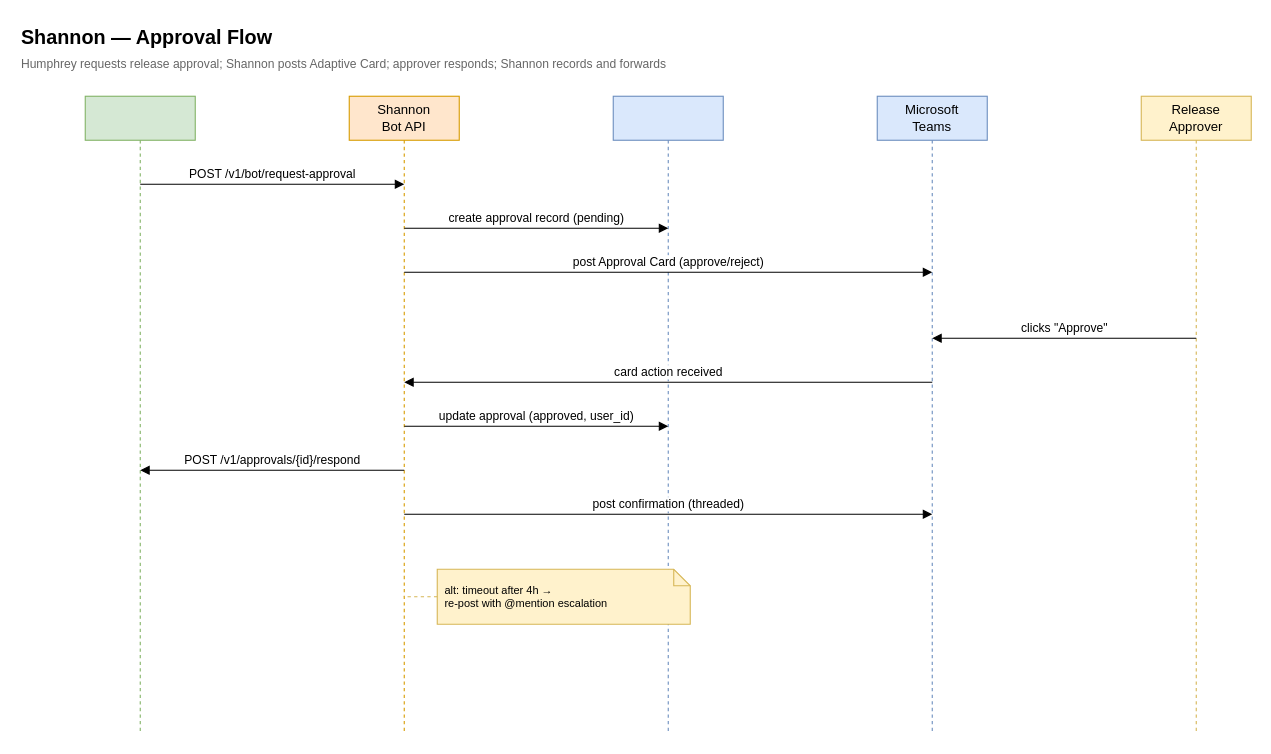
Some shapes in this 1271 by 754 pixel diagram are drawn without their labels. The shapes that lost their labels are listed below. From the top down, each one's box as (x1, y1, x2, y2) in pixels, then its label:
(84, 95, 195, 734): Humphrey API
(612, 95, 723, 734): PostgreSQL
